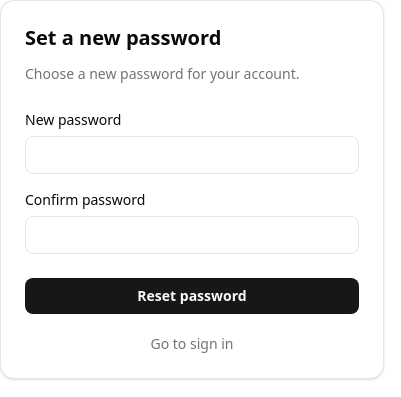
Test: ResetPasswordForm › resets the password with a valid token
Type "new-password" into the password field labelled "New password".
click(192, 155); type("new-password")  # box top-left (25, 136), bottom-right (359, 174)
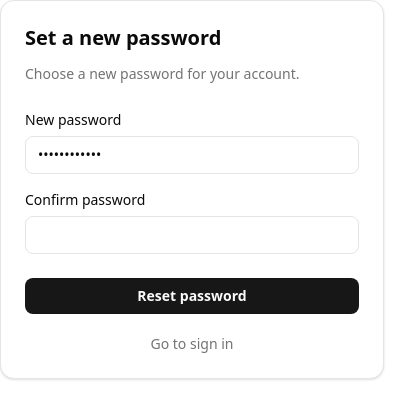
Type "new-password" into the password field labelled "Confirm password".
click(192, 235); type("new-password")  # box top-left (25, 216), bottom-right (359, 254)
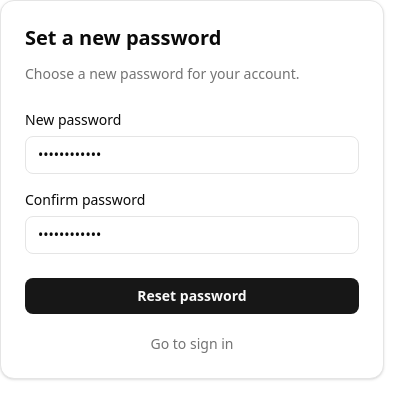
Submit the form from the button "Reset password", box top-left (25, 278), bottom-right (359, 314)
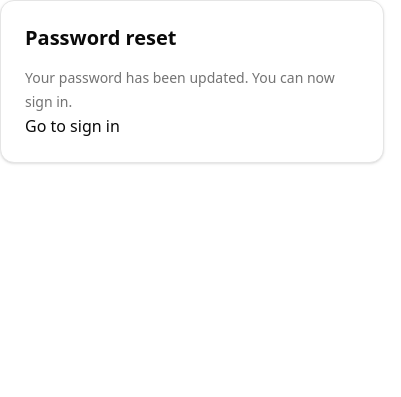
Check: the heading "Password reset" is shown, box top-left (25, 24), bottom-right (176, 51)
